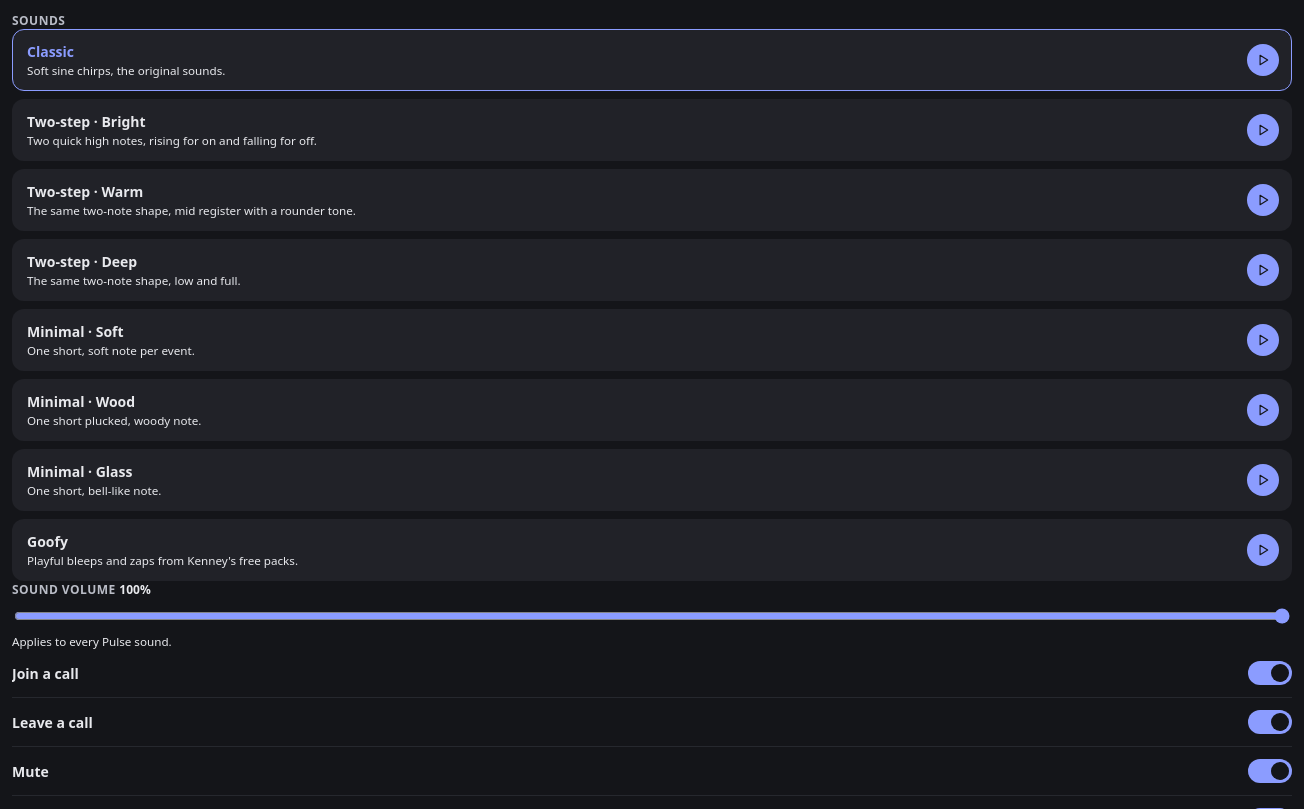
SoundSettings › the volume slider saves and shows the percentage
The width and height of the screenshot is (1304, 809).
Set the slider named "Sound volume" to "40" at (526, 616), box [14,608,1290,624]
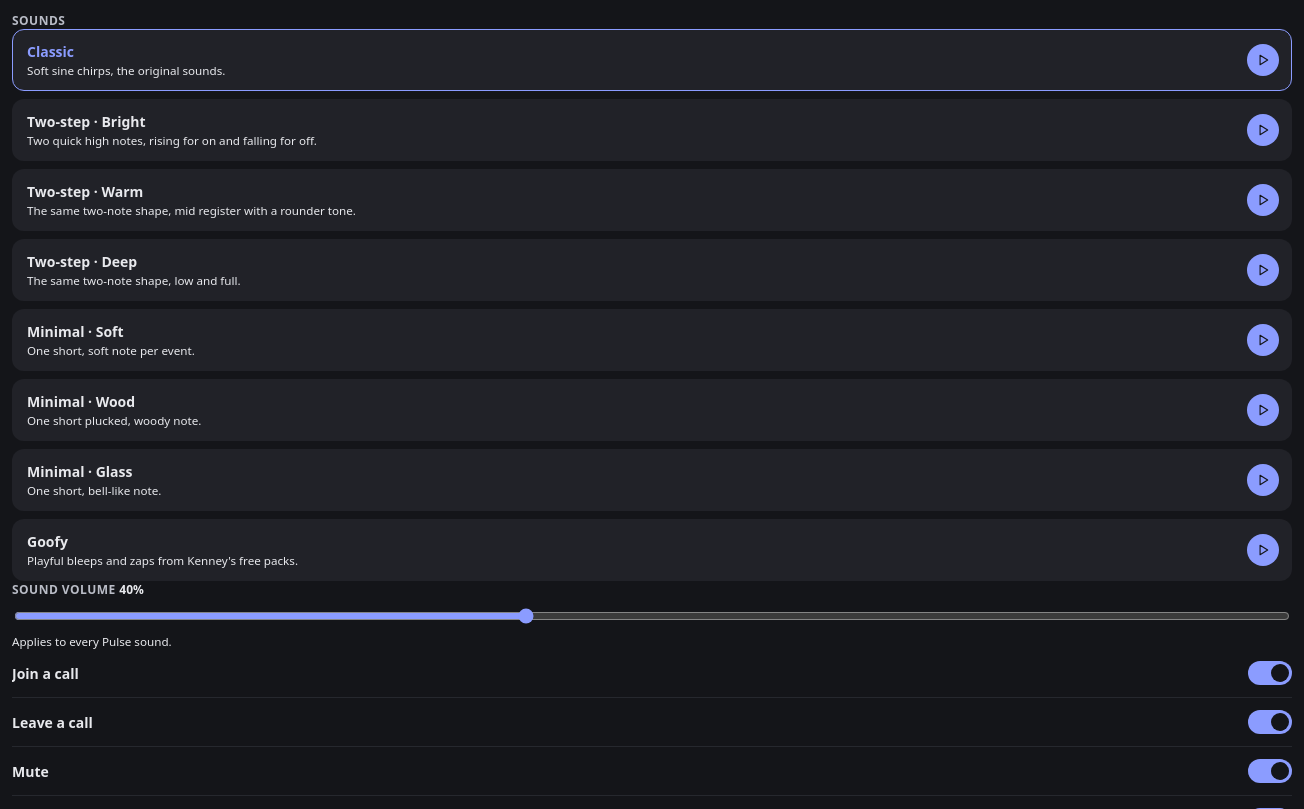
Expected: the text "40%" is shown, [119,581,144,598]
